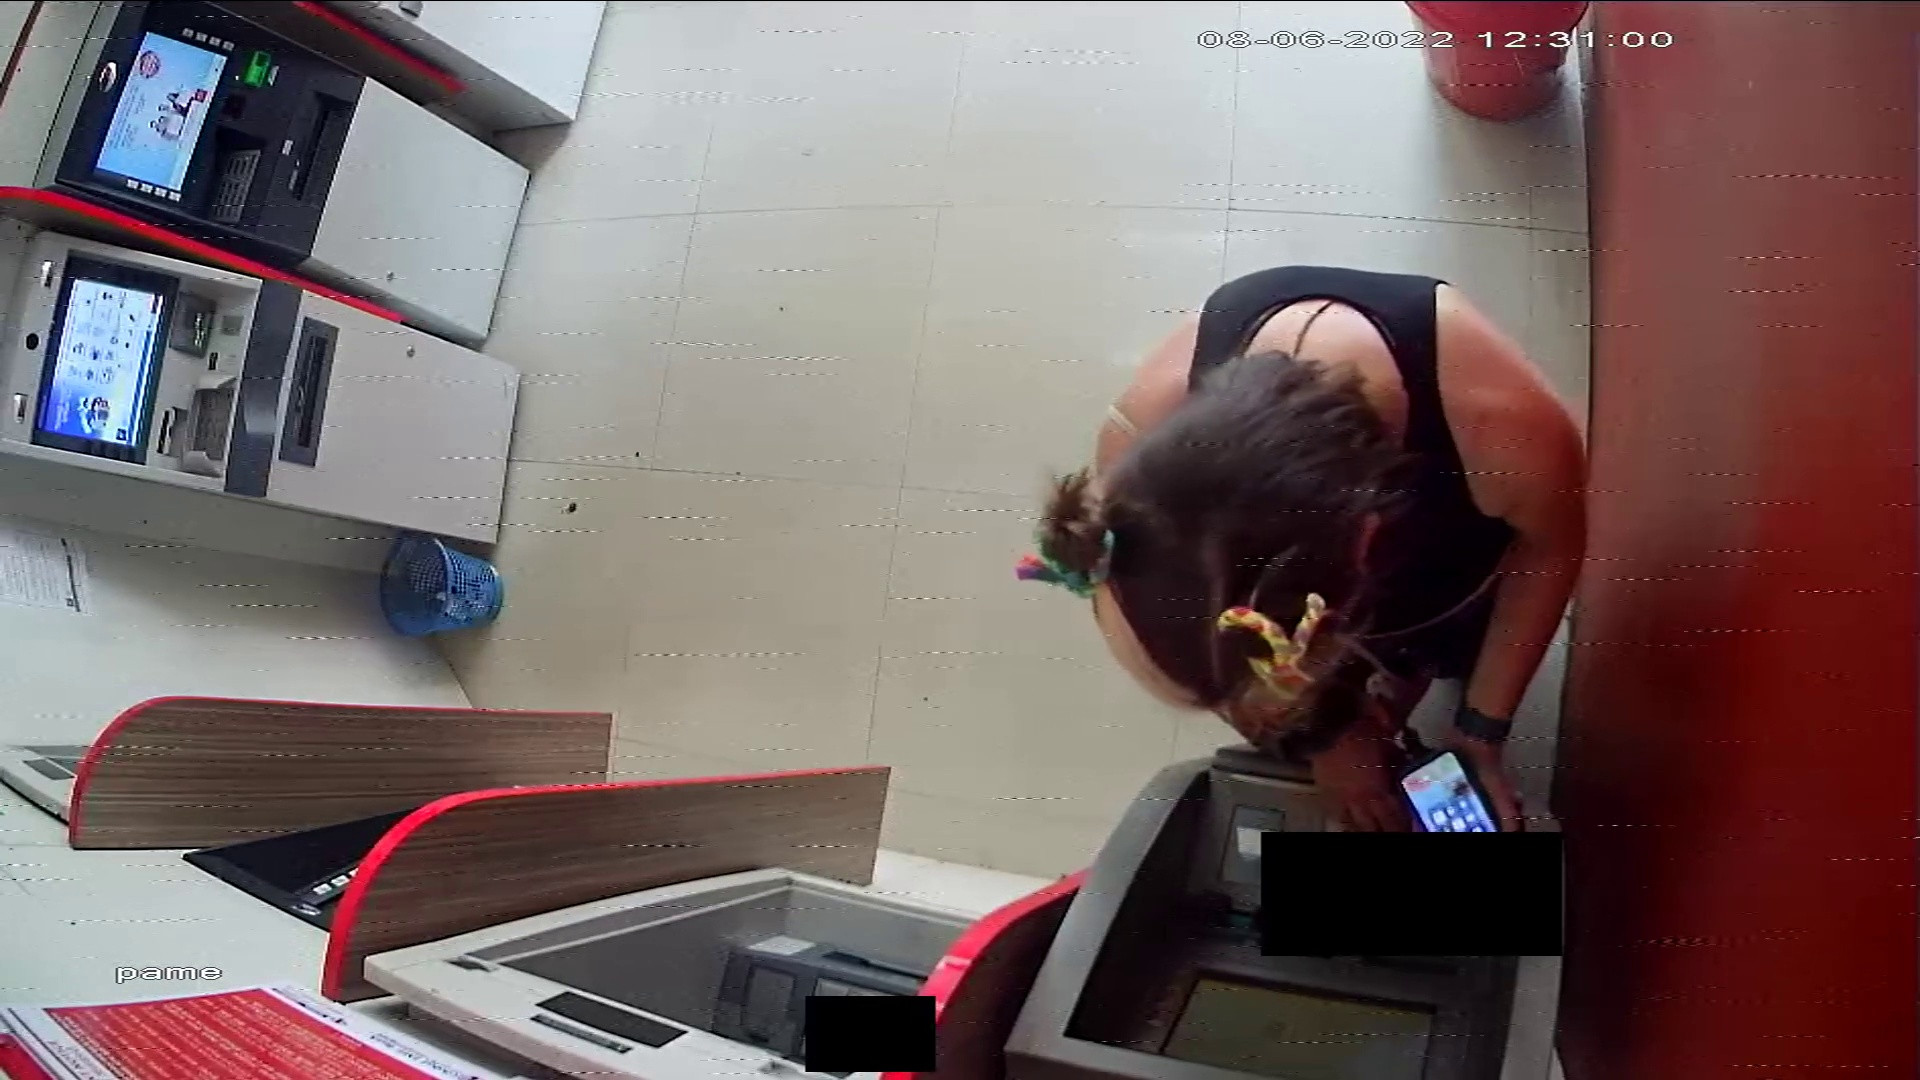person: (1018, 256, 1589, 836)
phone: (1400, 751, 1501, 833)
